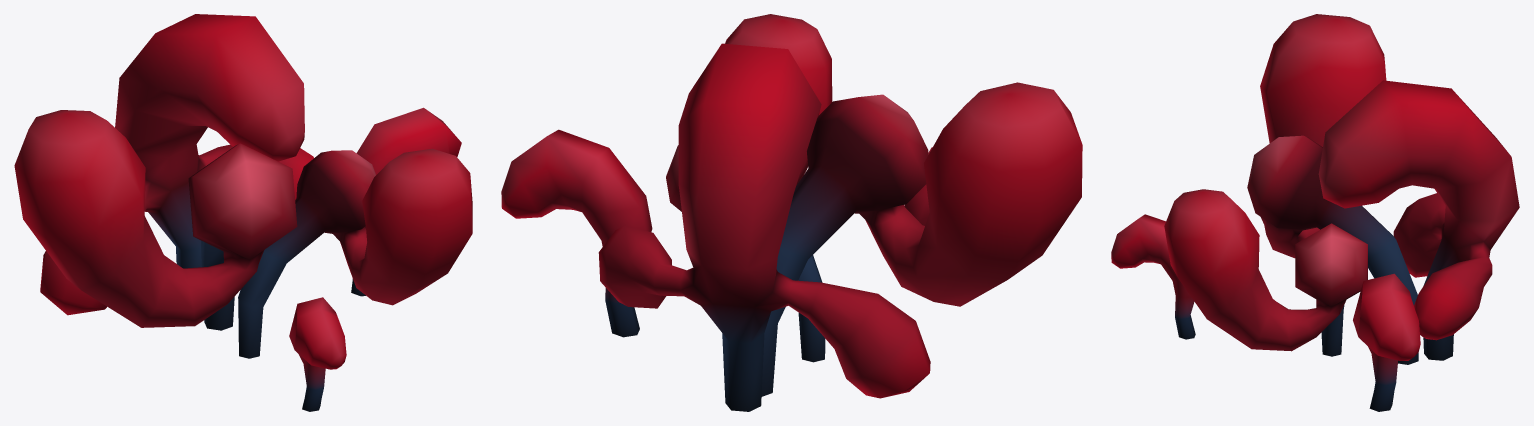
Rendered from Alien_Bush02.fbx.
3 renders of one model, left to right at view 1: azimuth 30°, elevation 25°; view 2: azimuth 150°, elevation 25°; view 3: azimuth 270°, elevation 25°, orthographic. The views are drawn at different scales.
Parts seen in each view (by area): view 1: Alien_Bush02; view 2: Alien_Bush02; view 3: Alien_Bush02.
Boxes of the visible parts, left/top/right/bottom form: Alien_Bush02: left=14, top=14, right=472, bottom=411; Alien_Bush02: left=501, top=14, right=1082, bottom=411; Alien_Bush02: left=1111, top=14, right=1519, bottom=411.
Bounding box in the file's own units: 3579 × 2202 × 2995.
